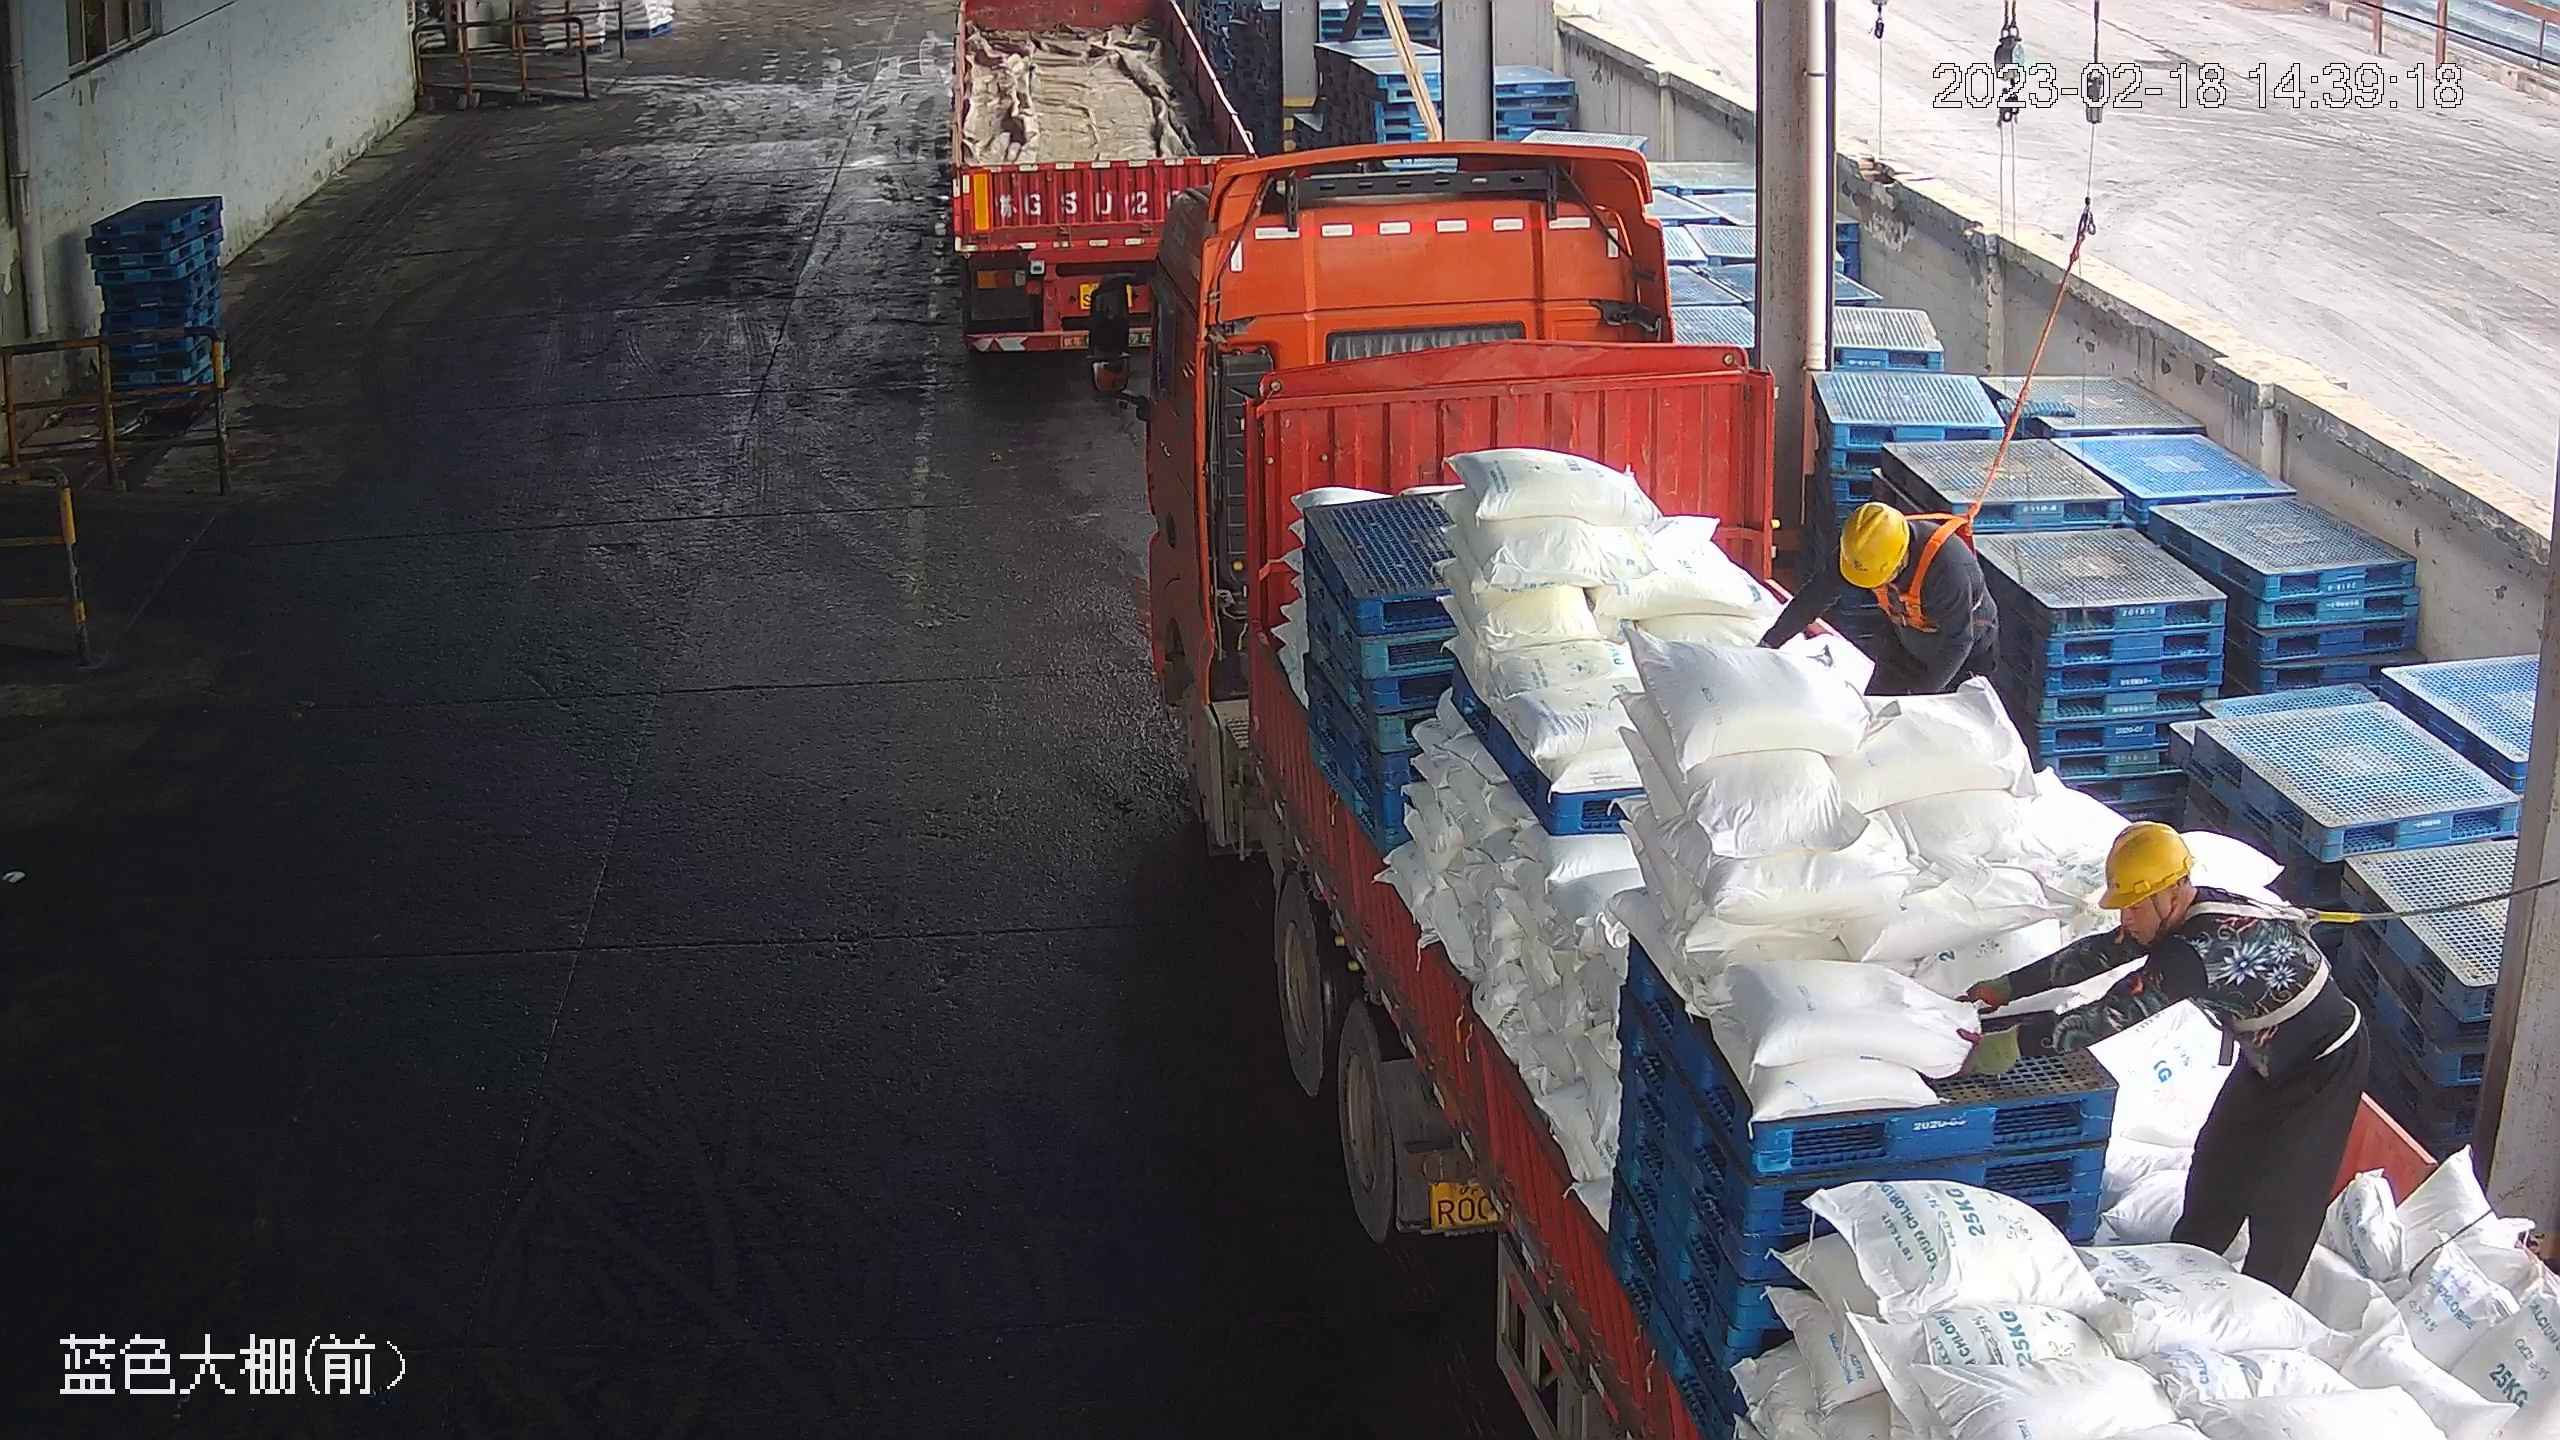belt: (2188, 889, 2358, 1042), (1874, 520, 1969, 631)
head: (2086, 821, 2276, 997), (1819, 501, 1974, 619)
helmet: (2093, 818, 2197, 910), (1836, 499, 1910, 587)
people: (1956, 816, 2370, 1300), (1754, 497, 2001, 724)
truck: (1078, 158, 2547, 1437), (937, 9, 1301, 376)
